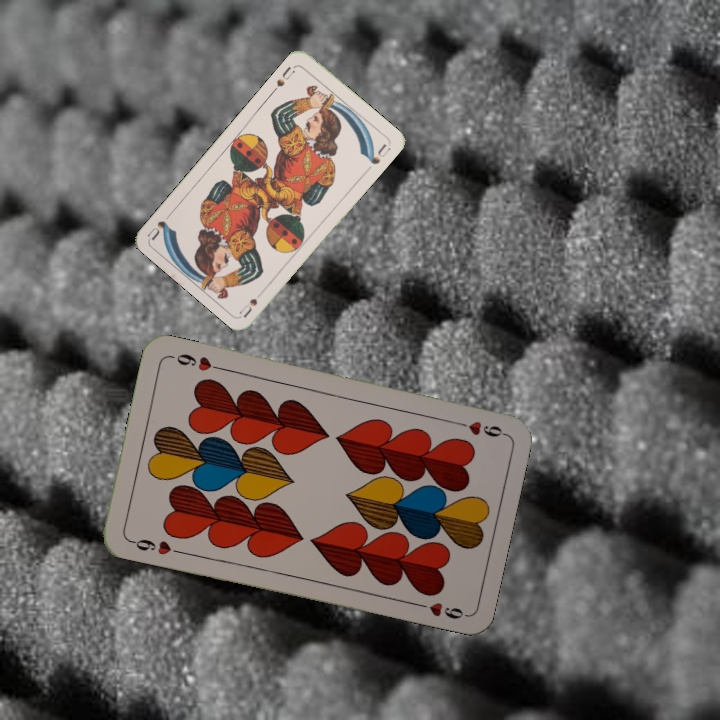H9: (449, 416, 507, 440), (126, 535, 184, 558)
SU: (268, 62, 298, 95), (236, 294, 260, 319)
